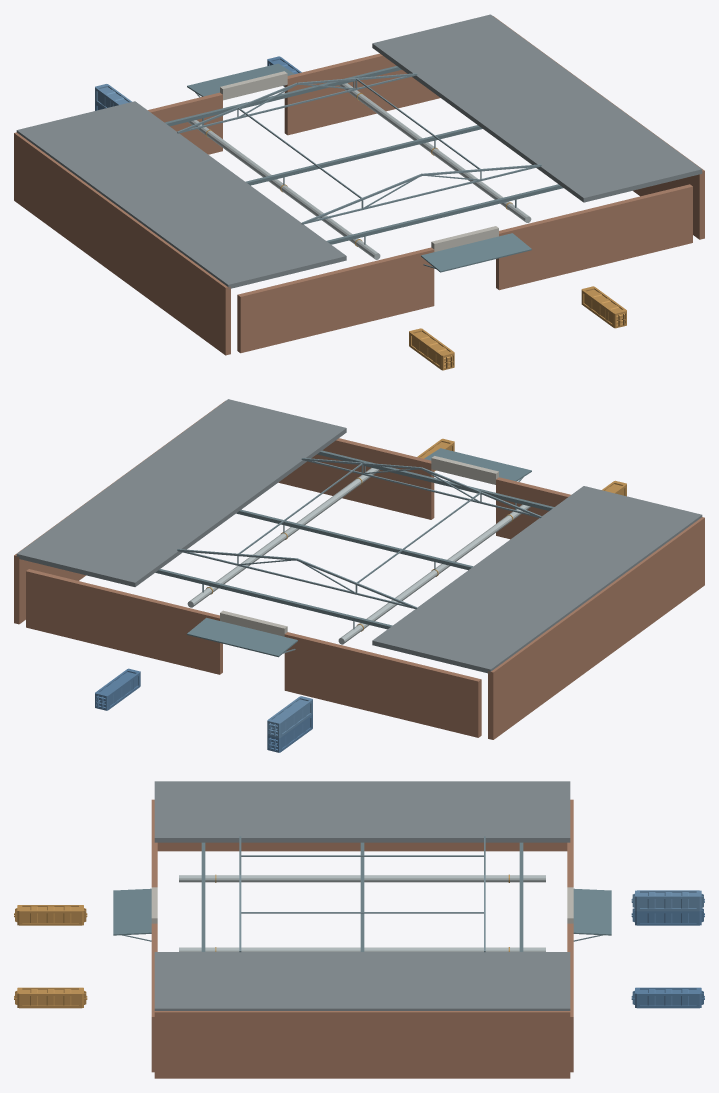
The model's file is urban-1-0.glb.
3 renders of one model, top to bottom at view 1: azimuth 30°, elevation 25°; view 2: azimuth 150°, elevation 25°; view 3: azimuth 270°, elevation 25°, orthographic.
Visible parts, largest first — view 1: urban-1-0; view 2: urban-1-0; view 3: urban-1-0.
Boxes of the visible parts, box(x1,y1,x2,y2) form: urban-1-0: box(14, 14, 704, 370); urban-1-0: box(14, 399, 704, 752); urban-1-0: box(14, 781, 704, 1078).
Bounding box in the file's own units: 89 × 16.15 × 113.
